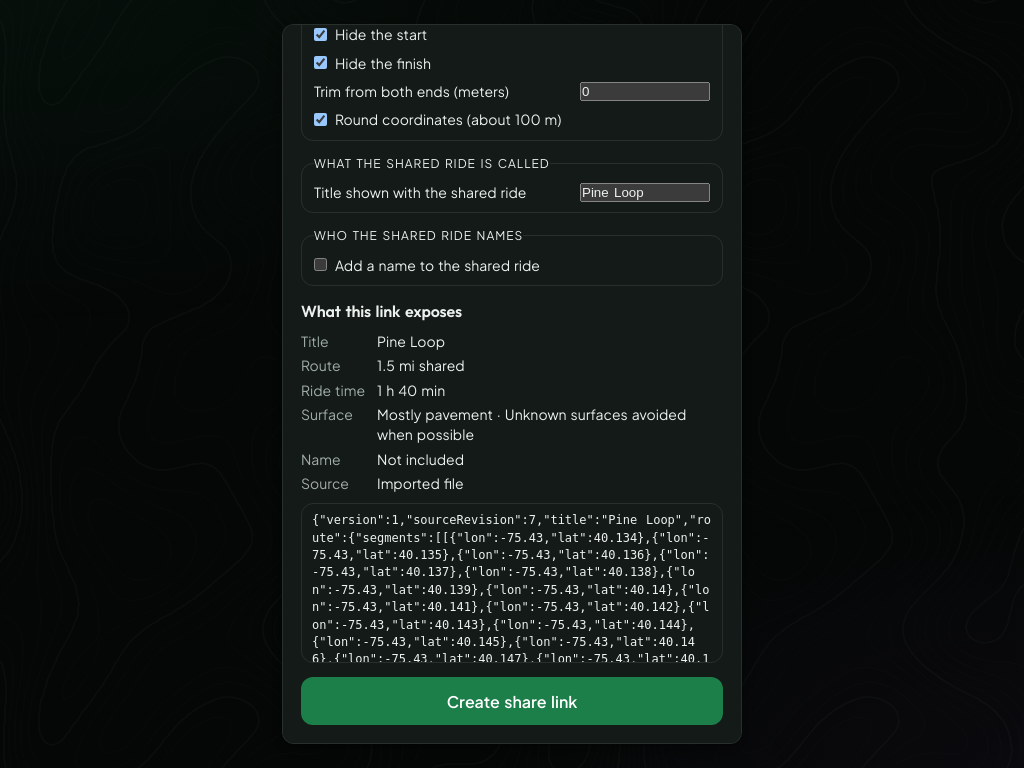
Scenario: ShareSheet — privacy preview › reports a failed publication without claiming that a link exists
(page scrolled)
Click the button with test id "share-publish": [512, 701] box [301,677,723,725]
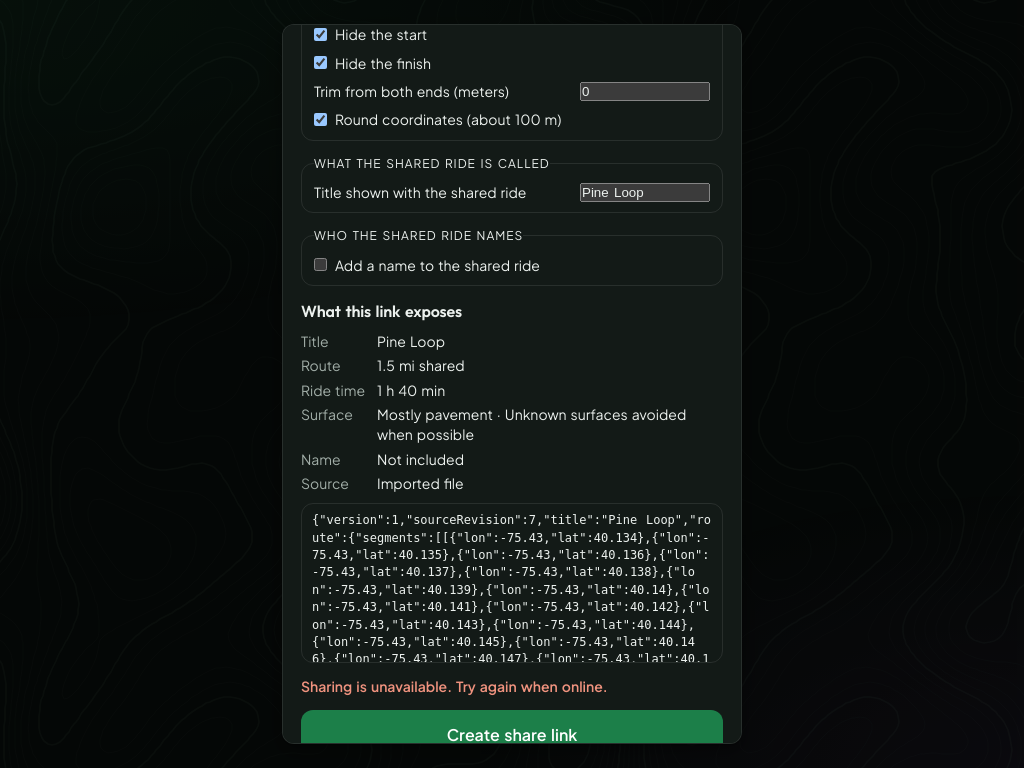
Expected: the button with test id "share-publish" is enabled, [301,710,723,744]
Expected: the message shows "Try again when online", [301,677,608,695]
